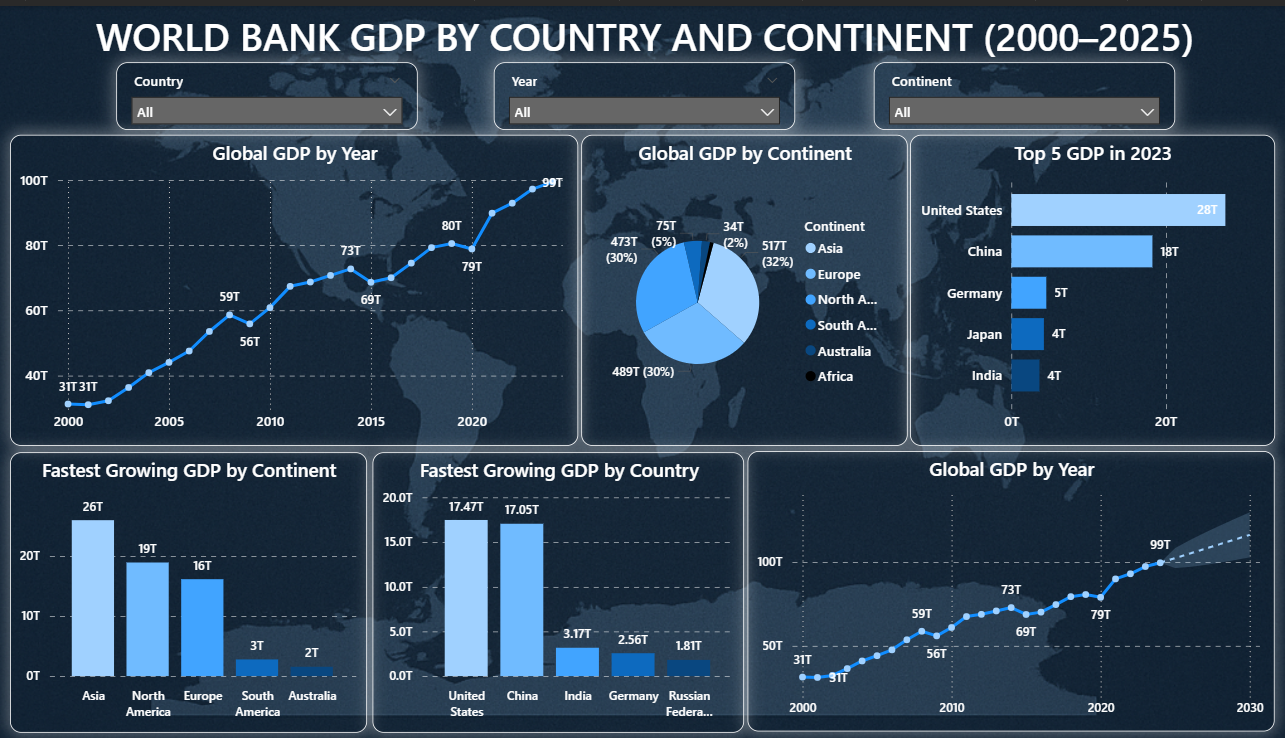

The dashboard page shown, as its layout file describes it:
{"tool":"powerbi","page":{"name":"Page 1","canvas":[1280,728],"ordinal":0},"visuals":[{"type":"textbox","box":[0,0,1280.3,60.4],"z":0},{"type":"lineChart","fields":{"Y":["gdp_2000_2025.Global GDP"],"Category":["gdp_2000_2025.Year"]},"box":[9.6,127.6,564,308.7],"z":1000},{"type":"barChart","title":"Top 5 GDP in 2023","fields":{"Y":["gdp_2000_2025.GDP 2023"],"Category":["gdp_2000_2025.Name of country"]},"box":[902.9,127.6,362.3,308.7],"z":2000},{"type":"columnChart","title":"Fastest Growing GDP by Country","fields":{"Category":["gdp_2000_2025.Name of country"],"Y":["gdp_2000_2025.Absolute Growth"]},"box":[369.1,443.2,369.1,278.6],"z":3000},{"type":"pieChart","fields":{"Y":["gdp_2000_2025.Global GDP"],"Category":["gdp_2000_2025.Continent"]},"box":[576.3,127.6,323.8,308.7],"z":4000},{"type":"columnChart","title":"Fastest Growing GDP by Continent","fields":{"Category":["gdp_2000_2025.Continent"],"Y":["gdp_2000_2025.Absolute Growth"]},"box":[9.6,443.2,354,278.6],"z":5000},{"type":"lineChart","fields":{"Category":["gdp_2000_2025.Year"],"Y":["gdp_2000_2025.Global GDP"]},"box":[742.4,441.9,522.8,278.6],"z":6000},{"type":"slicer","title":"Country","fields":{"Values":["gdp_2000_2025.Name of country"]},"box":[115.3,56.3,299.1,67.2],"z":7000},{"type":"slicer","title":"Country","fields":{"Values":["gdp_2000_2025.Year"]},"box":[489.9,56.3,299.1,67.2],"z":7001},{"type":"slicer","title":"Country","fields":{"Values":["gdp_2000_2025.Continent"]},"box":[867.2,56.3,299.1,67.2],"z":7002}]}

Visuals, with their boxes in screenshot pixels (x1, y1, x2, y2), scaled from the page's 1280x728 canvas onto the 1285x738 screenshot:
textbox: [0, 0, 1284, 61]
lineChart - gdp_2000_2025.Global GDP x gdp_2000_2025.Year: [10, 129, 576, 442]
"Top 5 GDP in 2023" barChart: [906, 129, 1270, 442]
"Fastest Growing GDP by Country" columnChart: [371, 449, 741, 732]
pieChart - gdp_2000_2025.Global GDP x gdp_2000_2025.Continent: [579, 129, 904, 442]
"Fastest Growing GDP by Continent" columnChart: [10, 449, 365, 732]
lineChart - gdp_2000_2025.Year x gdp_2000_2025.Global GDP: [745, 448, 1270, 730]
"Country" slicer: [116, 57, 416, 125]
"Country" slicer: [492, 57, 792, 125]
"Country" slicer: [871, 57, 1171, 125]
